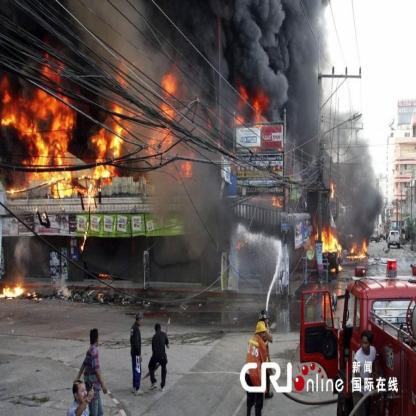fire: (3, 47, 140, 204), (312, 183, 375, 274), (148, 70, 197, 184), (233, 73, 267, 126), (5, 276, 32, 302)
smoke: (163, 10, 311, 62)
